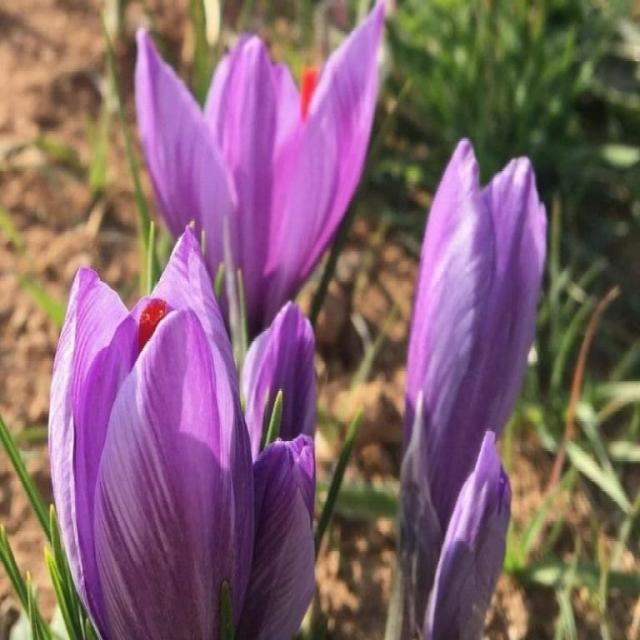Flower: (69, 257, 329, 635), (128, 8, 388, 296), (409, 130, 549, 640)
stigma: (299, 64, 321, 118)
